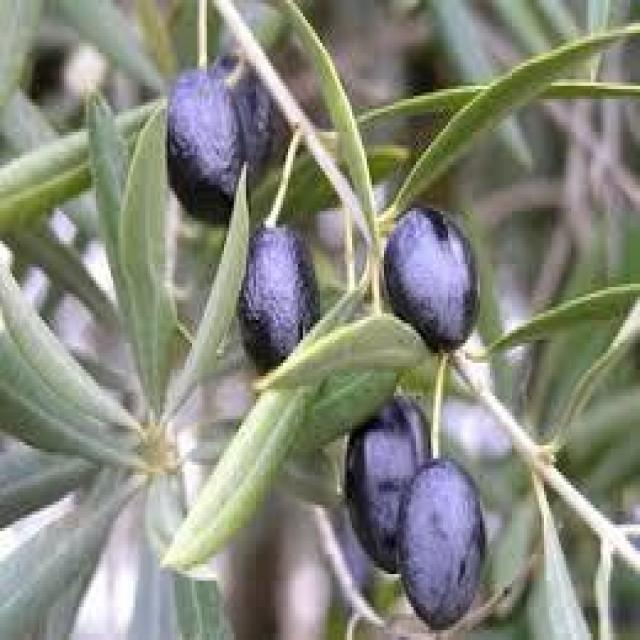Healthy: (396, 459, 487, 627), (382, 205, 478, 350), (166, 66, 245, 223)
